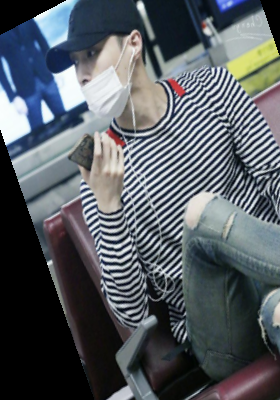mask_weared_incorrect: (39, 2, 159, 132)
